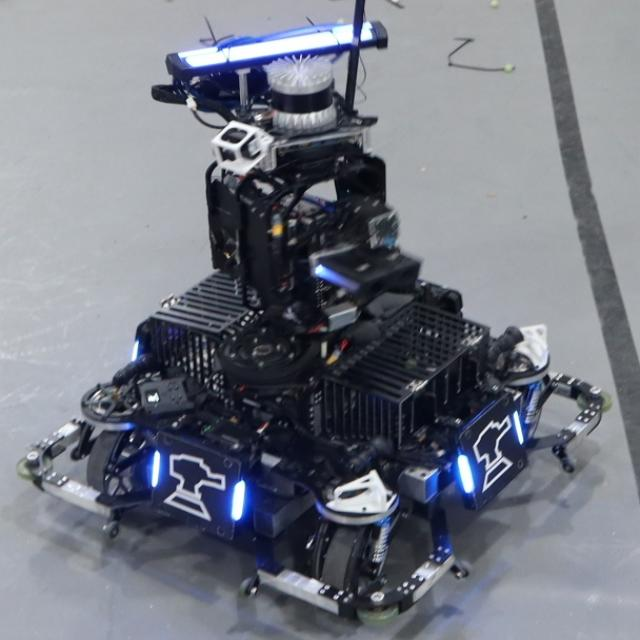Bs: (148, 430, 245, 543), (456, 393, 532, 509)
